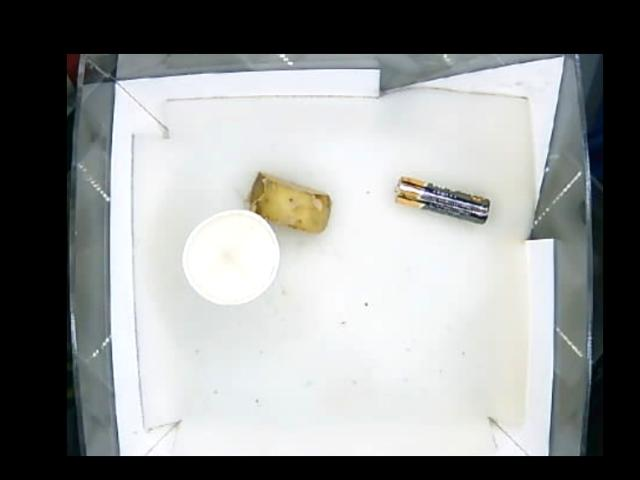Battery: (391, 174, 492, 223)
Cup: (179, 208, 281, 306)
Potato: (242, 174, 333, 234)
